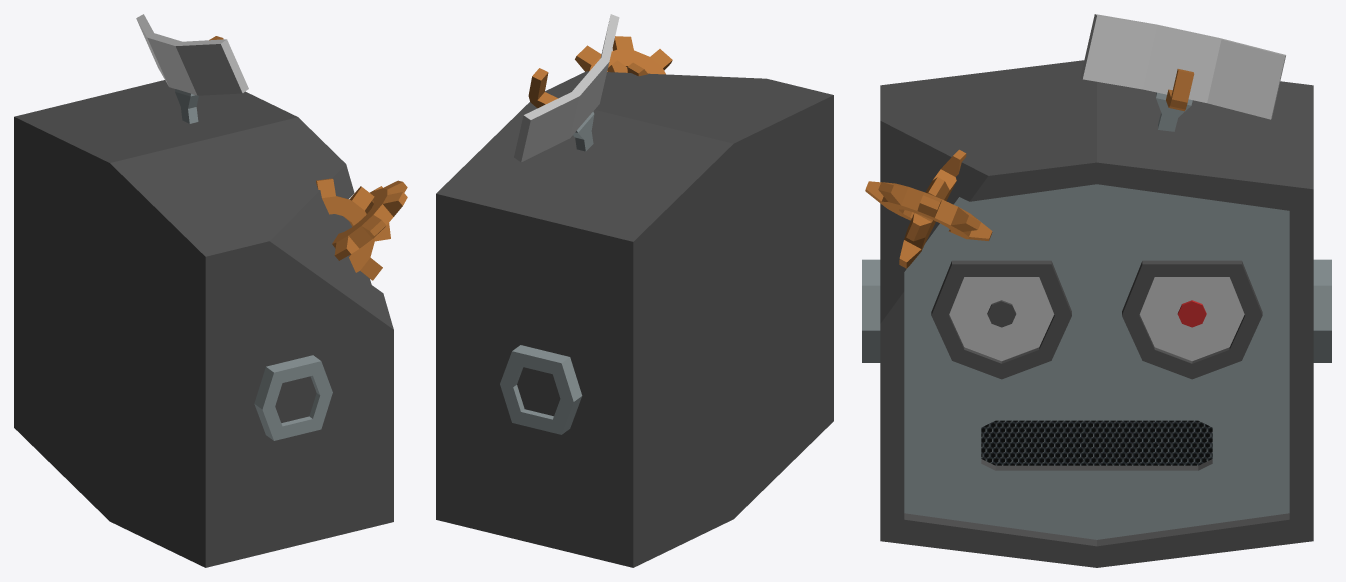
The model's file is robot.glb.
3 views of the same model, side by side, from view 1: azimuth 30°, elevation 25°; view 2: azimuth 150°, elevation 25°; view 3: azimuth 270°, elevation 25° (orthographic). The views are drawn at different scales.
Visible parts, largest first — view 1: Head, Antenna, Cylinder; view 2: Head, Antenna, Cylinder; view 3: Head, Antenna, Eye2, Eye1, Cylinder.
Boxes of the visible parts, bbox=[...] form: Head: bbox=[14, 80, 393, 567]; Antenna: bbox=[136, 14, 248, 123]; Cylinder: bbox=[316, 178, 407, 280]; Head: bbox=[436, 71, 833, 567]; Antenna: bbox=[514, 14, 619, 162]; Cylinder: bbox=[575, 36, 672, 76]; Head: bbox=[862, 60, 1331, 567]; Antenna: bbox=[1080, 14, 1285, 131]; Eye2: bbox=[1122, 260, 1262, 379]; Eye1: bbox=[931, 260, 1071, 379]; Cylinder: bbox=[865, 149, 992, 268].
Bounding box in the file's own units: 1.18 × 2.3 × 1.91.
2 materials, 2 textured.
